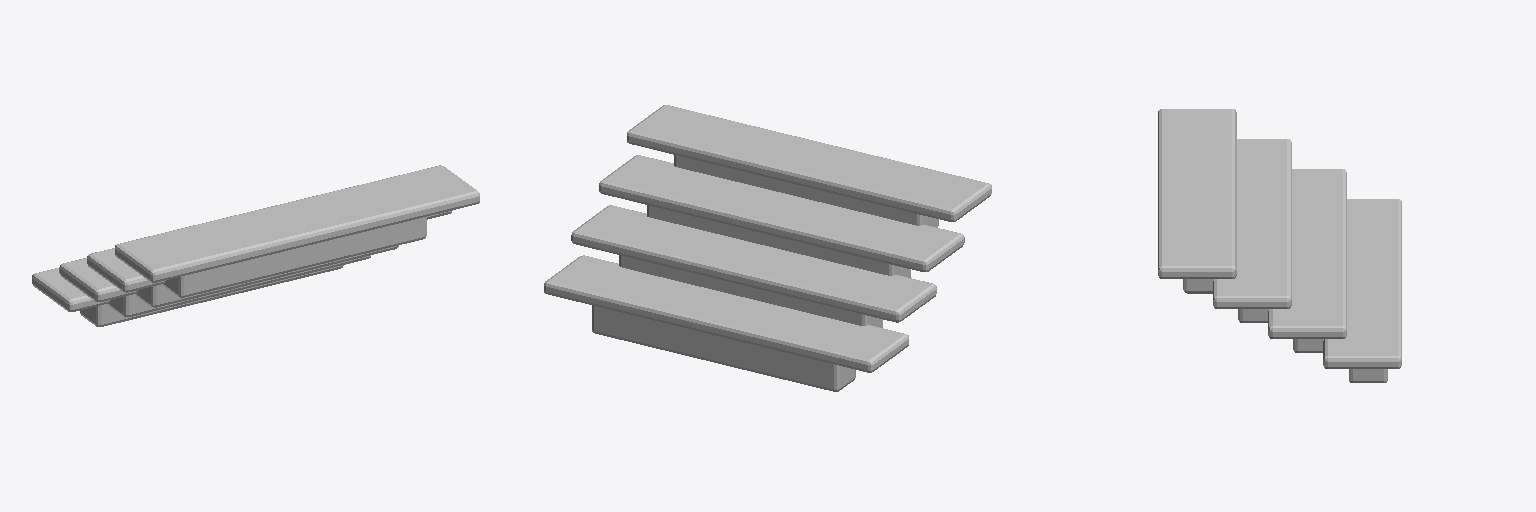
File: Porch_Stairs.obj
3 views of the same model, side by side, from view 1: azimuth 30°, elevation 25°; view 2: azimuth 150°, elevation 25°; view 3: azimuth 270°, elevation 25° (orthographic).
Parts seen in each view (by area): view 1: Porch_Stairs_Cube.101; view 2: Porch_Stairs_Cube.101; view 3: Porch_Stairs_Cube.101.
Boxes of the visible parts, x1=… form: Porch_Stairs_Cube.101: x1=32, y1=165, x2=479, y2=326; Porch_Stairs_Cube.101: x1=544, y1=105, x2=991, y2=391; Porch_Stairs_Cube.101: x1=1158, y1=109, x2=1401, y2=382.
Size of the model in its own units: 2.9 by 1.15 by 1.86.